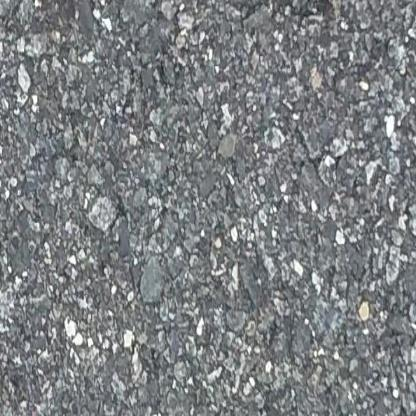Cracks: (0, 0, 99, 49), (286, 0, 388, 37)
